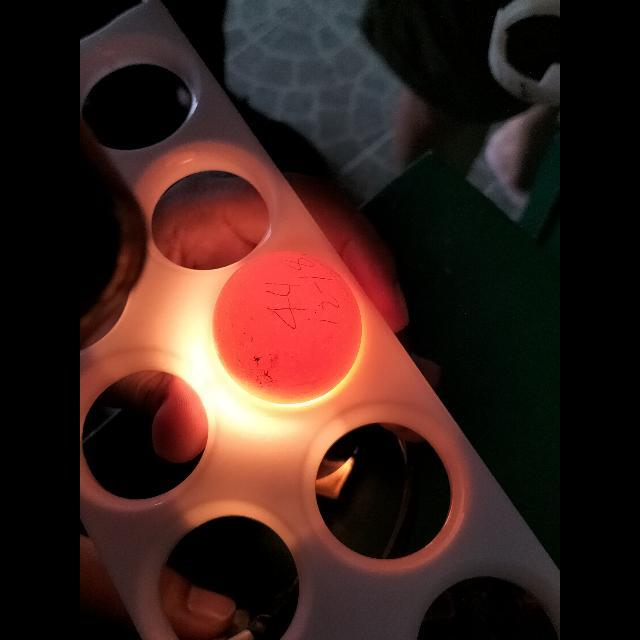Infertile: (217, 253, 366, 397)
